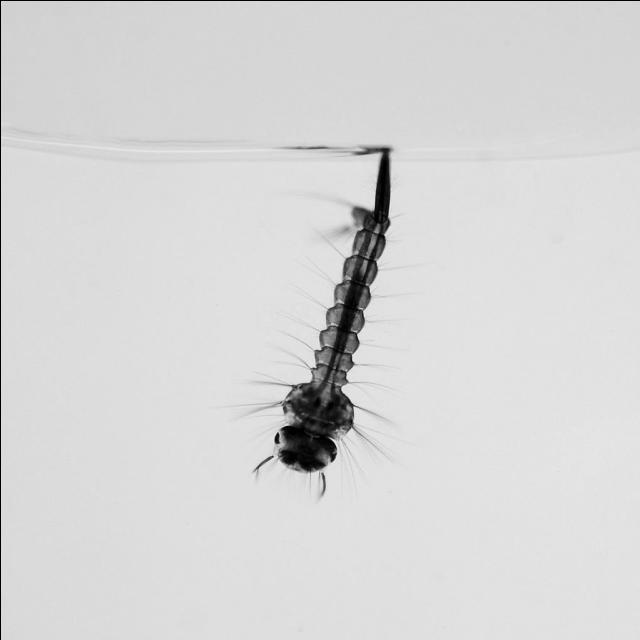larvas: (266, 144, 392, 468)
